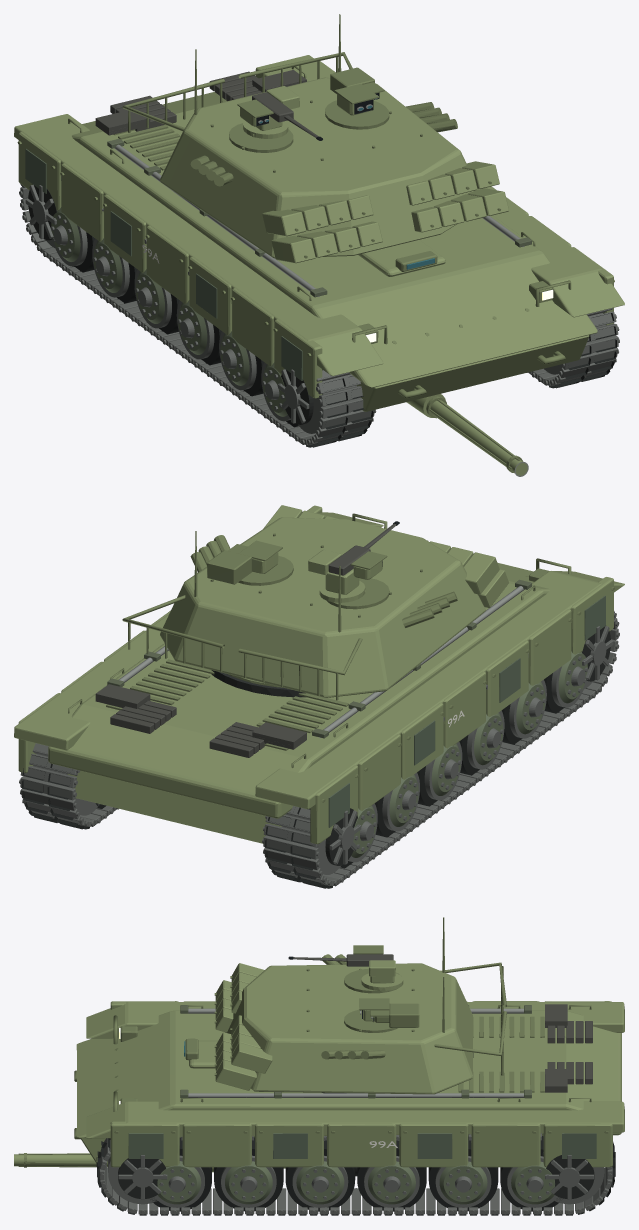
Rendered from china.glb.
The picture shows the model from 3 angles, top to bottom: view 1: azimuth 30°, elevation 25°; view 2: azimuth 150°, elevation 25°; view 3: azimuth 270°, elevation 25°; orthographic projection. The views are drawn at different scales.
Visible parts, largest first — view 1: body.001, turret.001, tracks.001, body_field_fittings, cannon.001; view 2: body.001, turret.001, tracks.001, body_field_fittings; view 3: body.001, turret.001, tracks.001, body_field_fittings, cannon.001.
Part boxes in pixels (left/top/right/bottom): body.001: left=14, top=55, right=624, bottom=411; turret.001: left=122, top=14, right=508, bottom=263; tracks.001: left=19, top=176, right=619, bottom=447; body_field_fittings: left=107, top=71, right=531, bottom=297; cannon.001: left=406, top=394, right=528, bottom=476; body.001: left=14, top=505, right=624, bottom=844; turret.001: left=122, top=505, right=508, bottom=700; tracks.001: left=19, top=611, right=619, bottom=888; body_field_fittings: left=107, top=579, right=531, bottom=757; body.001: left=74, top=1001, right=624, bottom=1167; turret.001: left=214, top=917, right=506, bottom=1094; tracks.001: left=96, top=1133, right=615, bottom=1215; body_field_fittings: left=180, top=1005, right=592, bottom=1098; cannon.001: left=14, top=1153, right=357, bottom=1176.
Bounding box in the file's own units: 3.91 × 3.22 × 7.82.
